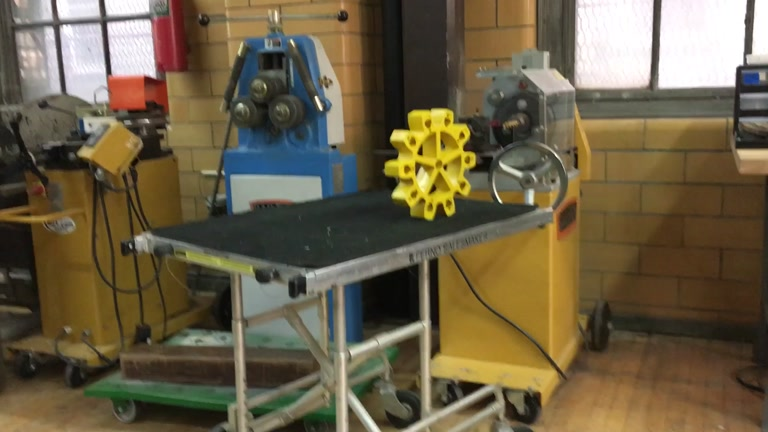gear: (386, 106, 477, 221)
